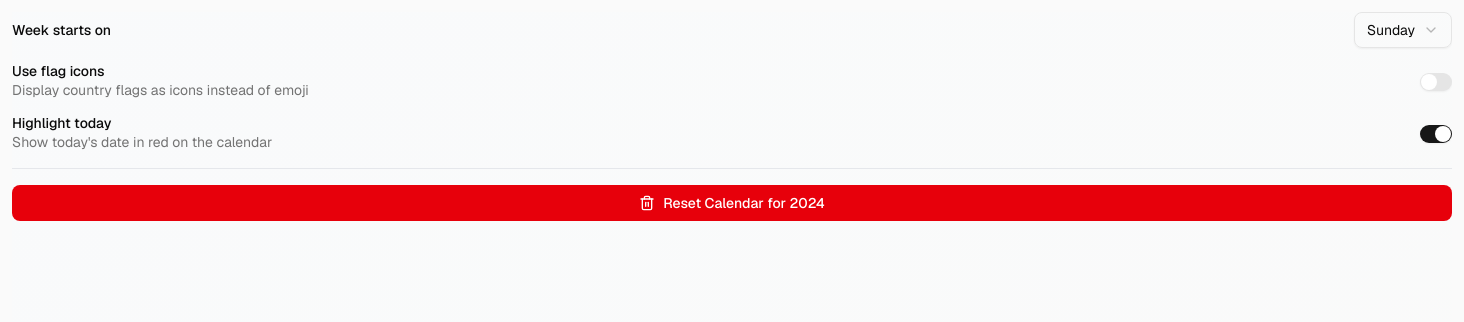
Test case: Settings › Week starts on › should render all 7 days of the week in dropdown
Click the dropdown.
click(1403, 30)  # box [1354, 12, 1452, 48]
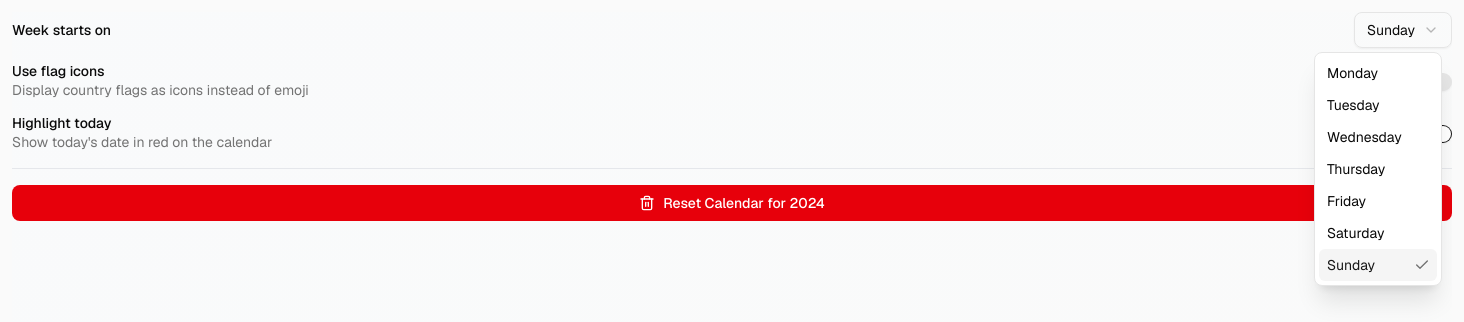
Check: the option "Sunday" is shown, box [1319, 249, 1437, 281]
Check: the option "Monday" is shown, box [1327, 64, 1378, 82]
Check: the option "Tuesday" is shown, box [1327, 96, 1380, 114]
